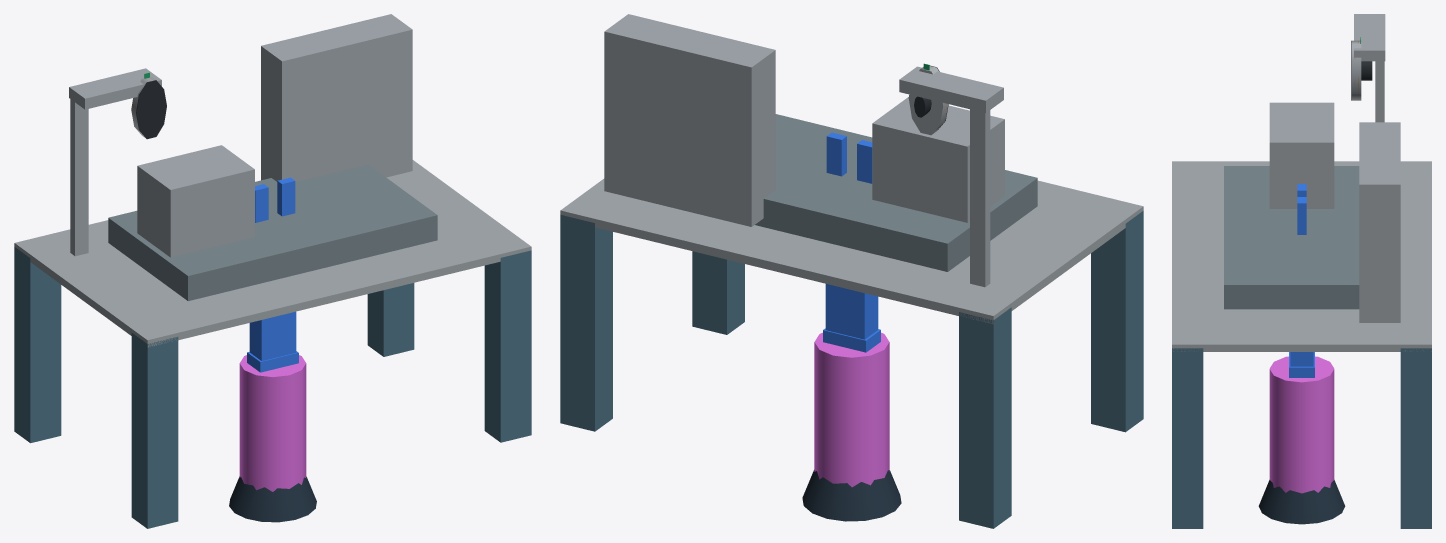
3 renders of one model, left to right at view 1: azimuth 30°, elevation 25°; view 2: azimuth 150°, elevation 25°; view 3: azimuth 270°, elevation 25°, orthographic. The views are drawn at different scales.
Visible parts, largest first — view 1: g4, g0006, g0003, g0005, g1, g3, g0, visualJoint, g2, g0004, base, g0002 (+4 smaller); view 2: g0006, g4, g0003, g0, g2, g0005, visualJoint, g1, g3, g0004, base, g0002 (+4 smaller); view 3: g4, g0003, g0006, visualJoint, g0005, g2, g3, base, g0002, g0004, g0001, gripperRight (+2 smaller).
Part boxes in pixels (x1=…): g4: x1=14, y1=160, x2=531, y2=347; g0006: x1=261, y1=14, x2=412, y2=182; g0003: x1=108, y1=164, x2=437, y2=301; g0005: x1=137, y1=145, x2=254, y2=257; g1: x1=131, y1=333, x2=178, y2=528; g3: x1=484, y1=250, x2=531, y2=442; g0: x1=14, y1=247, x2=61, y2=443; visualJoint: x1=239, y1=355, x2=306, y2=491; g2: x1=367, y1=283, x2=414, y2=356; g0004: x1=70, y1=99, x2=88, y2=256; base: x1=229, y1=476, x2=316, y2=522; g0002: x1=69, y1=68, x2=161, y2=109; g0006: x1=604, y1=14, x2=775, y2=226; g4: x1=560, y1=178, x2=1143, y2=324; g0003: x1=755, y1=114, x2=1037, y2=271; g0: x1=959, y1=307, x2=1011, y2=528; g2: x1=560, y1=214, x2=612, y2=431; g0005: x1=872, y1=97, x2=1004, y2=222; visualJoint: x1=814, y1=332, x2=889, y2=487; g1: x1=1091, y1=211, x2=1143, y2=432; g3: x1=692, y1=251, x2=744, y2=334; g0004: x1=970, y1=109, x2=990, y2=287; base: x1=802, y1=470, x2=901, y2=521; g0002: x1=899, y1=66, x2=1003, y2=112; g4: x1=1172, y1=161, x2=1431, y2=351; g0003: x1=1224, y1=166, x2=1359, y2=309; g0006: x1=1359, y1=122, x2=1400, y2=322; visualJoint: x1=1269, y1=356, x2=1334, y2=493; g0005: x1=1269, y1=102, x2=1334, y2=208; g2: x1=1400, y1=348, x2=1431, y2=528; g3: x1=1172, y1=348, x2=1203, y2=528; base: x1=1258, y1=480, x2=1345, y2=524; g0002: x1=1354, y1=14, x2=1385, y2=61; g0004: x1=1375, y1=61, x2=1384, y2=122; g0001: x1=1352, y1=40, x2=1361, y2=100; gripperRight: x1=1297, y1=197, x2=1306, y2=234.
Bounding box in the file's own units: 2 × 2.15 × 1.2.
